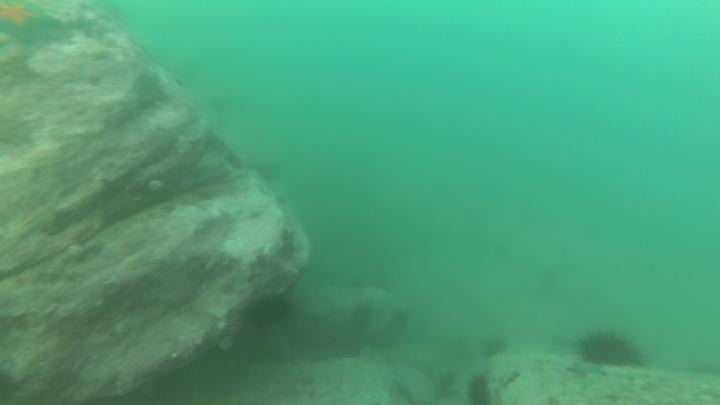echinus: (578, 328, 643, 369), (246, 292, 296, 335), (464, 372, 492, 405), (481, 334, 510, 362)
